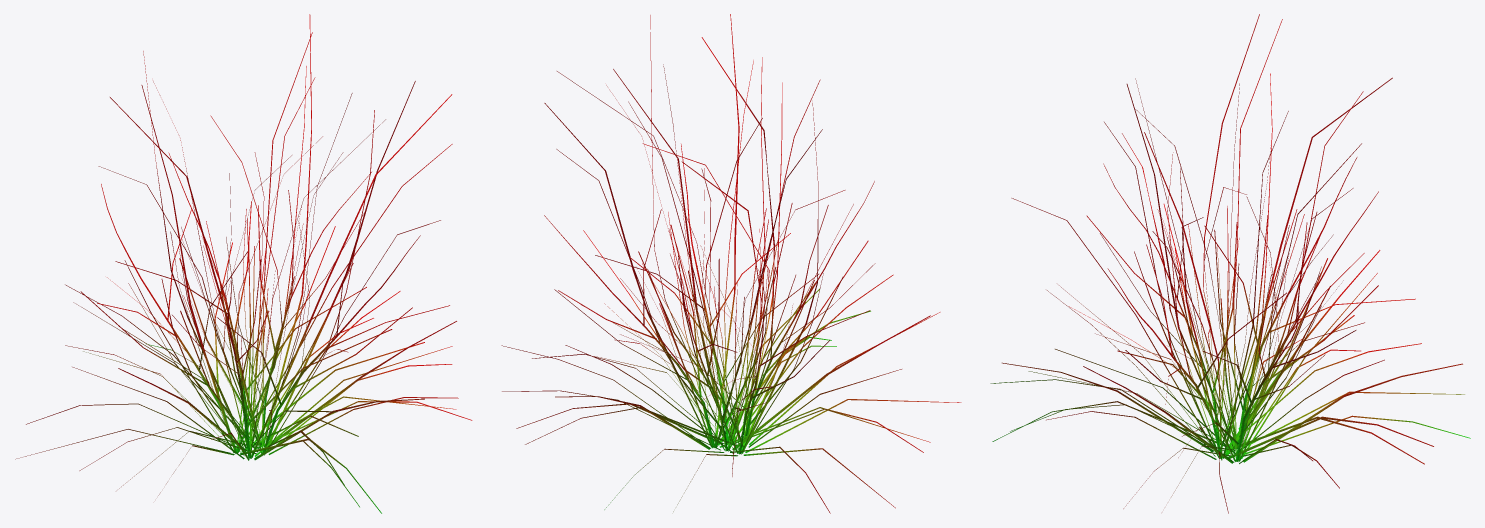
File: Xeric Grass_LOD2_Var3_xjfgdhaqx.fbx
The picture shows the model from 3 angles, left to right: view 1: azimuth 30°, elevation 25°; view 2: azimuth 150°, elevation 25°; view 3: azimuth 270°, elevation 25°; orthographic projection. The views are drawn at different scales.
Parts seen in each view (by area): view 1: _4bnf_Var3_LOD2; view 2: _4bnf_Var3_LOD2; view 3: _4bnf_Var3_LOD2.
Boxes of the visible parts, x1,y1,x2,y2 form: _4bnf_Var3_LOD2: (15, 14, 472, 513); _4bnf_Var3_LOD2: (501, 14, 961, 513); _4bnf_Var3_LOD2: (990, 14, 1470, 513).
Bounding box in the file's own units: 176 × 162 × 177.
